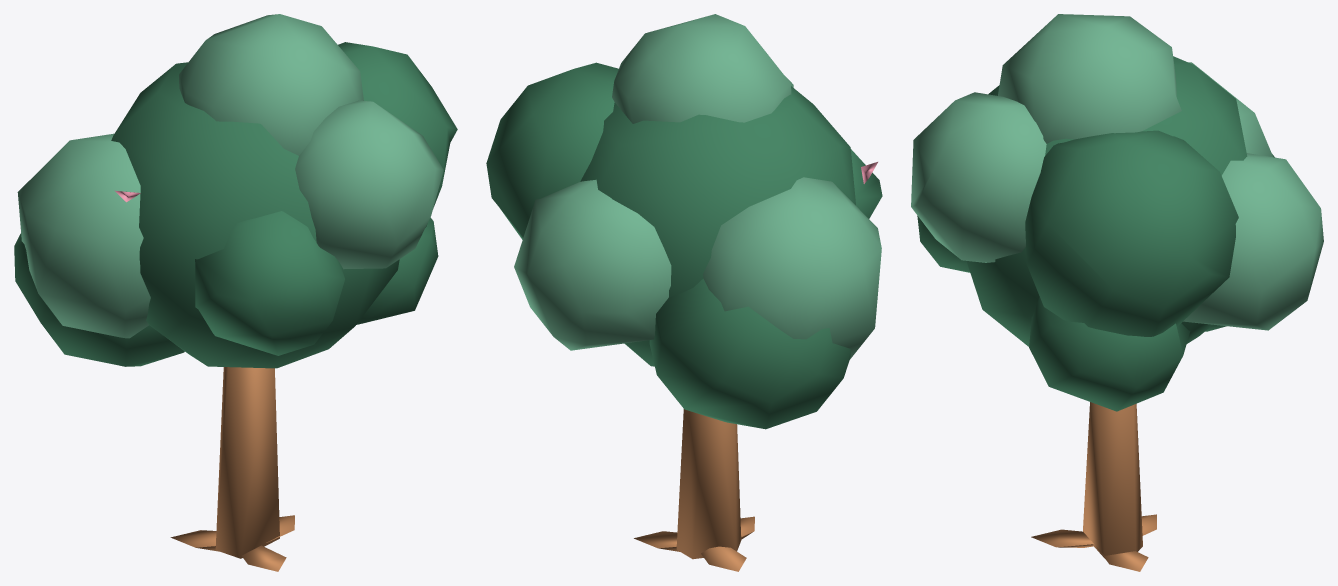
The model's file is tree_small.glb.
The picture shows the model from 3 angles, left to right: view 1: azimuth 30°, elevation 25°; view 2: azimuth 150°, elevation 25°; view 3: azimuth 270°, elevation 25°; orthographic projection. The views are drawn at different scales.
Visible parts, largest first — view 1: tree_small; view 2: tree_small; view 3: tree_small.
Boxes of the visible parts, x1=… form: tree_small: x1=14, y1=14, x2=457, y2=571; tree_small: x1=486, y1=14, x2=882, y2=571; tree_small: x1=911, y1=14, x2=1323, y2=571.
Size of the model in its own units: 2.8 by 3.61 by 2.5.
1 material, 1 textured.
